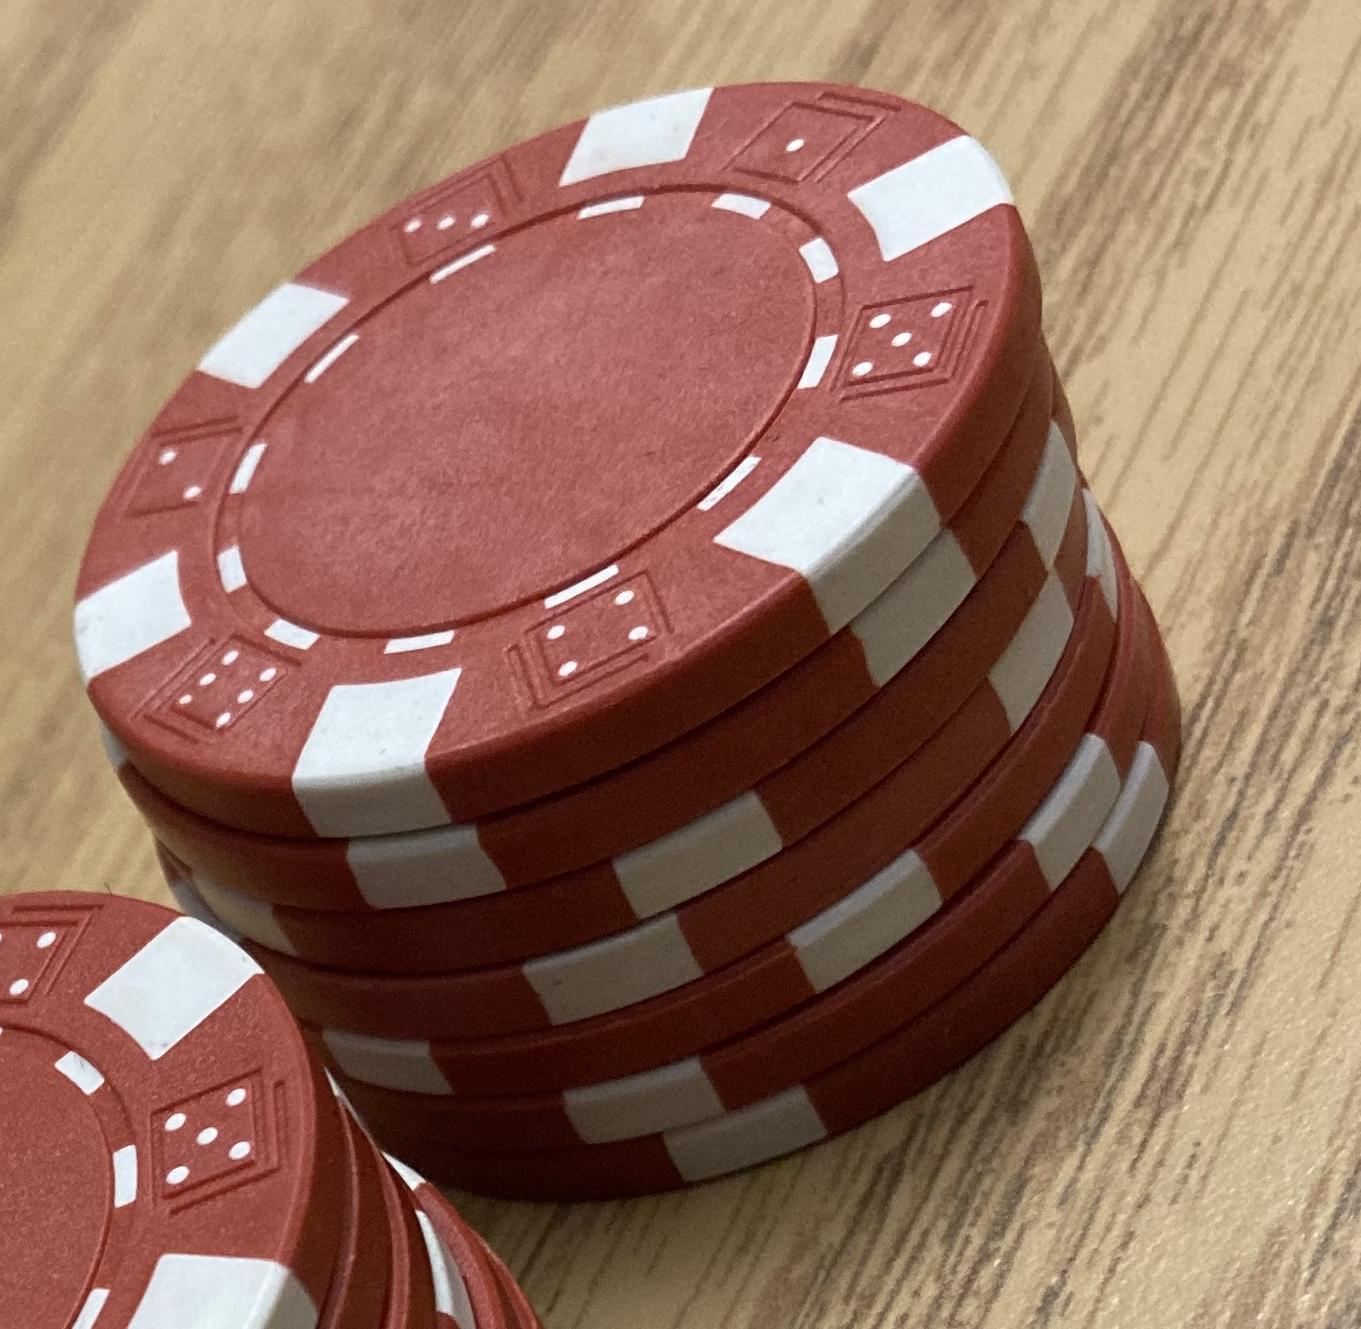Chip: (1, 1, 1361, 1329)
